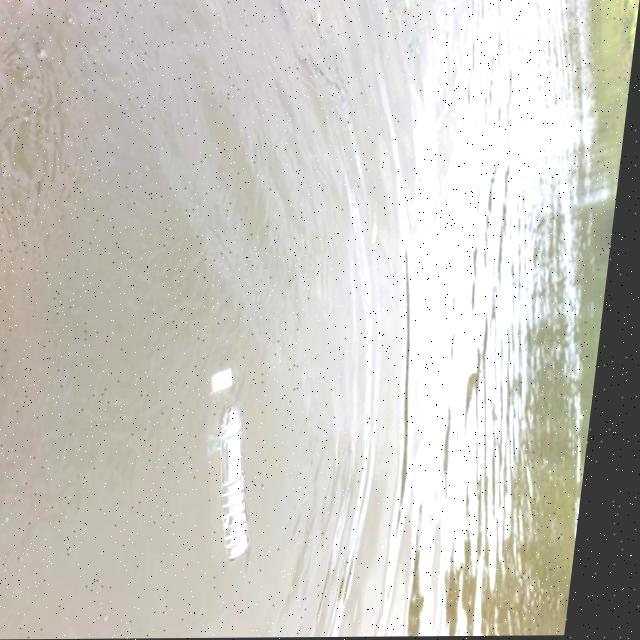waterbottle: (193, 364, 290, 571)
